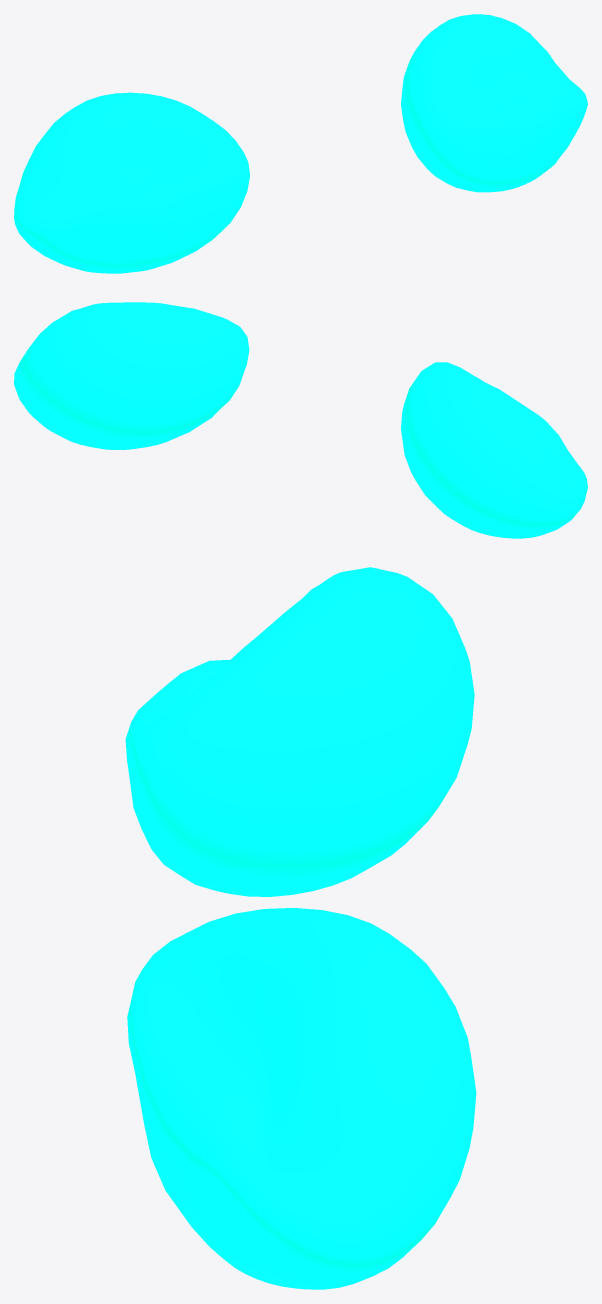
The model's file is Zombie-Mint.glb.
3 renders of one model, top to bottom at view 1: azimuth 30°, elevation 25°; view 2: azimuth 150°, elevation 25°; view 3: azimuth 270°, elevation 25°, orthographic. The views are drawn at different scales.
Parts seen in each view (by area): view 1: Sphere.001; view 2: Sphere.001; view 3: Sphere.001.
Part boxes in pixels (<box>): Sphere.001: <box>14,14,587,273</box>; Sphere.001: <box>14,302,587,538</box>; Sphere.001: <box>125,567,476,1289</box>.
Bounding box in the file's own units: 0.3788 × 0.1042 × 0.1024.
